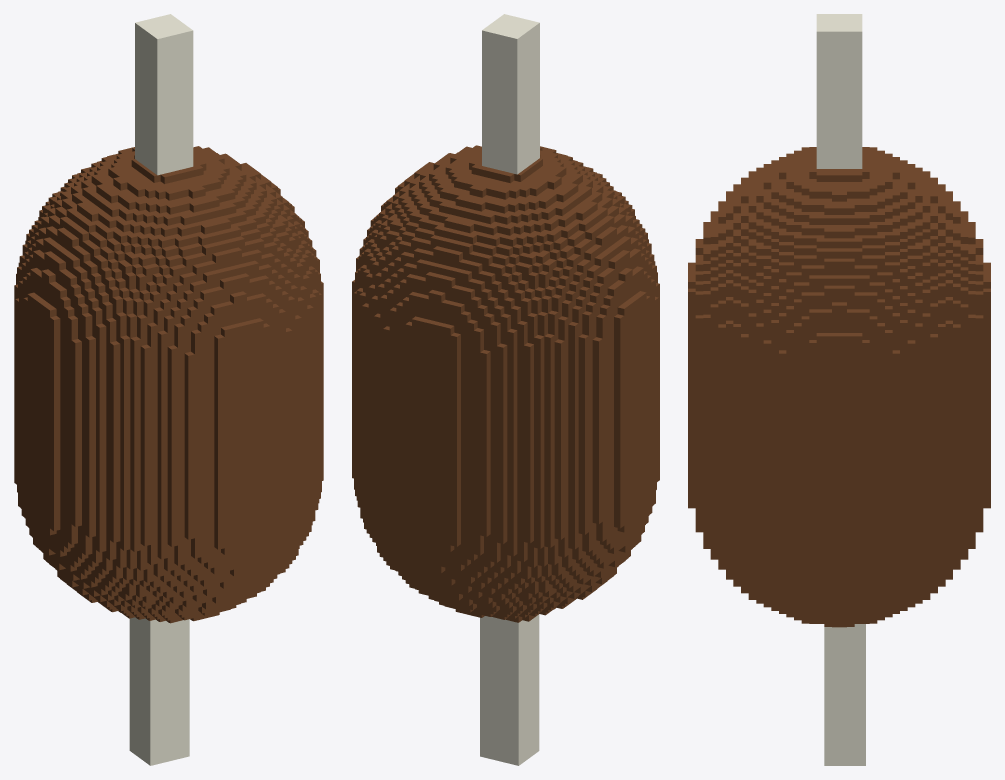
File: Meat.obj
The picture shows the model from 3 angles, left to right: view 1: azimuth 30°, elevation 25°; view 2: azimuth 150°, elevation 25°; view 3: azimuth 270°, elevation 25°; orthographic projection.
Size of the model in its own units: 8 by 21.4 by 8.
1 material, 1 textured.
